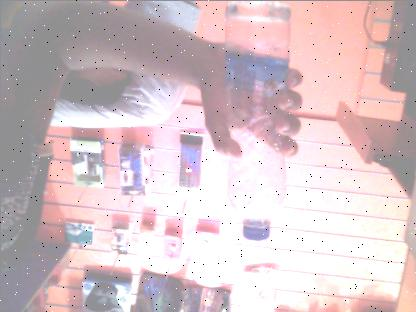Plastic Bottle: (221, 0, 291, 240)
